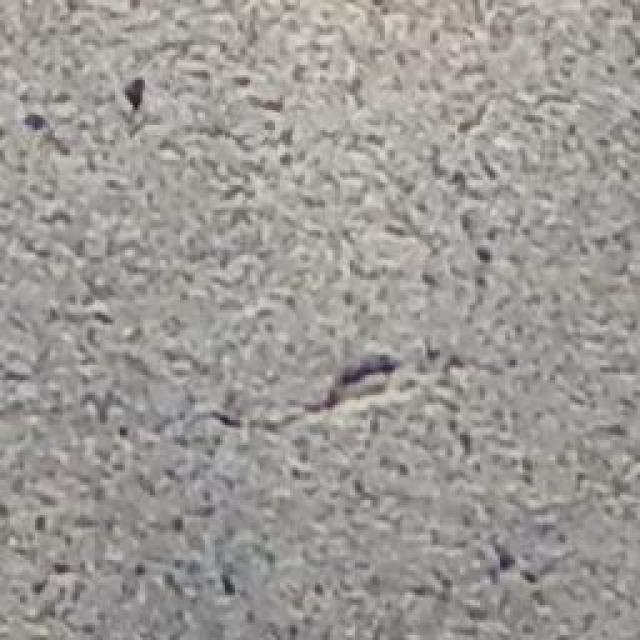concrete-crack: (196, 351, 418, 441)
